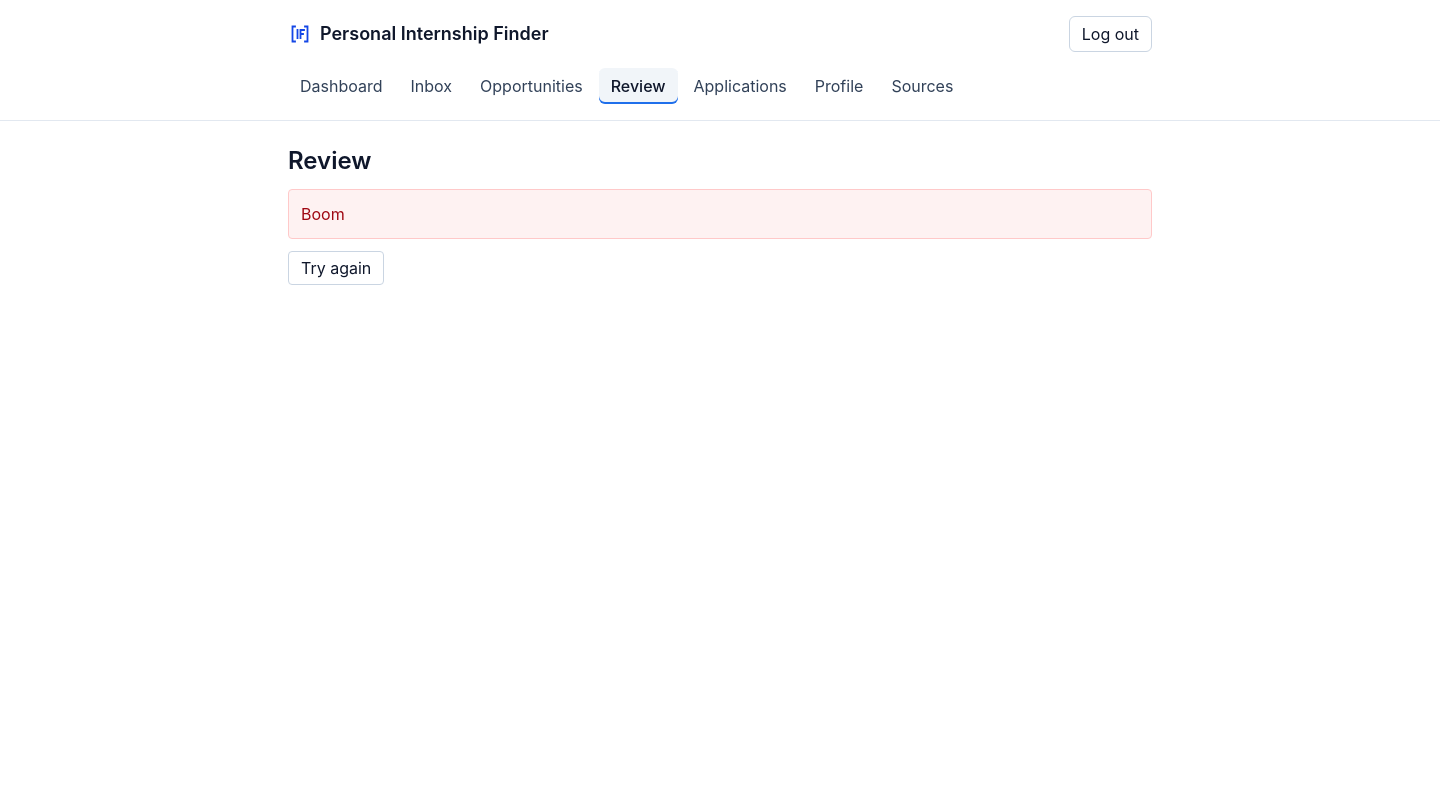
Test: requirement review queue page › shows an error with a retry, and an empty state
The image size is (1440, 810).
Expected: the message reads "Boom", x1=301 y1=204 x2=345 y2=224
Click the button "Try again" at (336, 268), box x1=288 y1=251 x2=384 y2=285
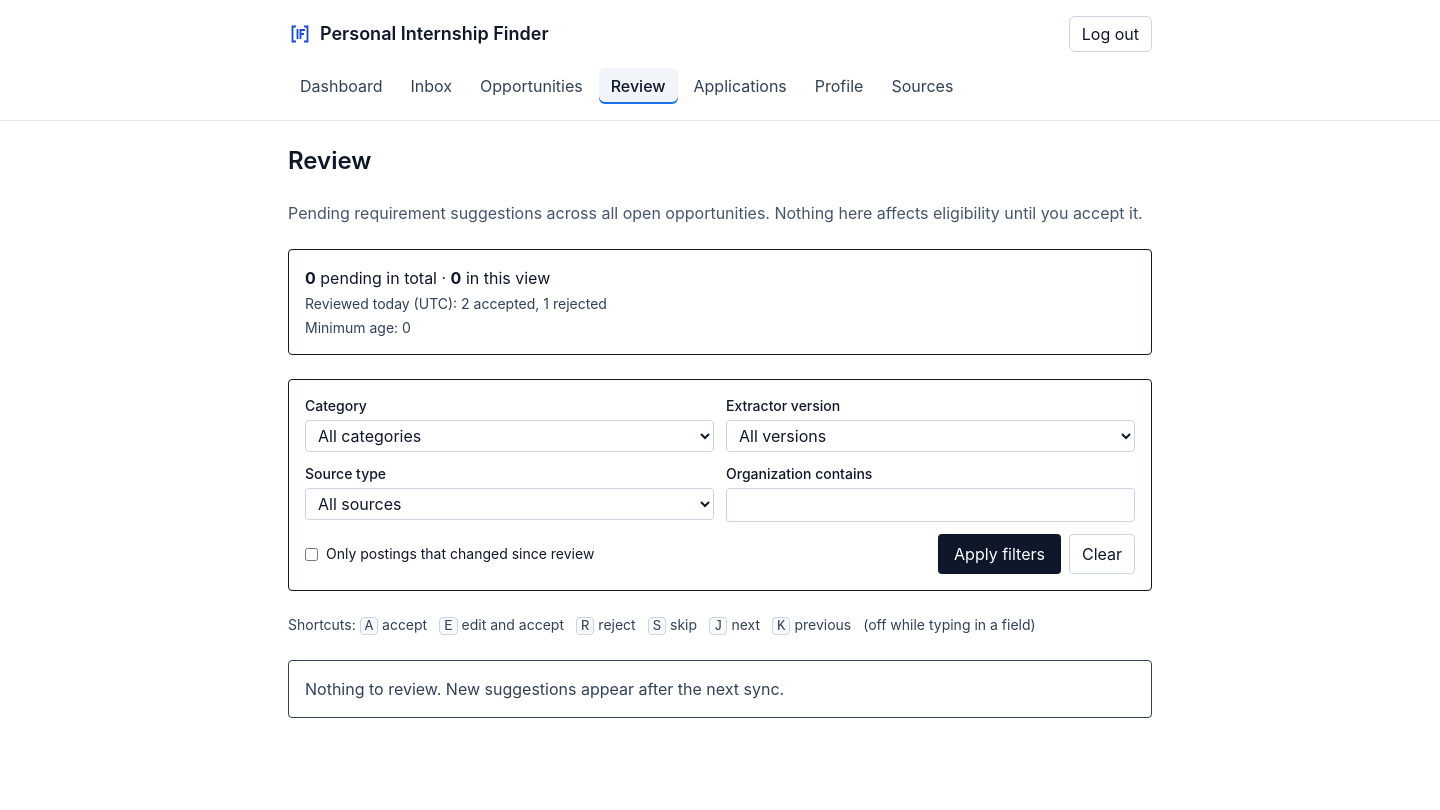
Result: the text "Nothing to review" is shown at x1=305 y1=679 x2=784 y2=699
